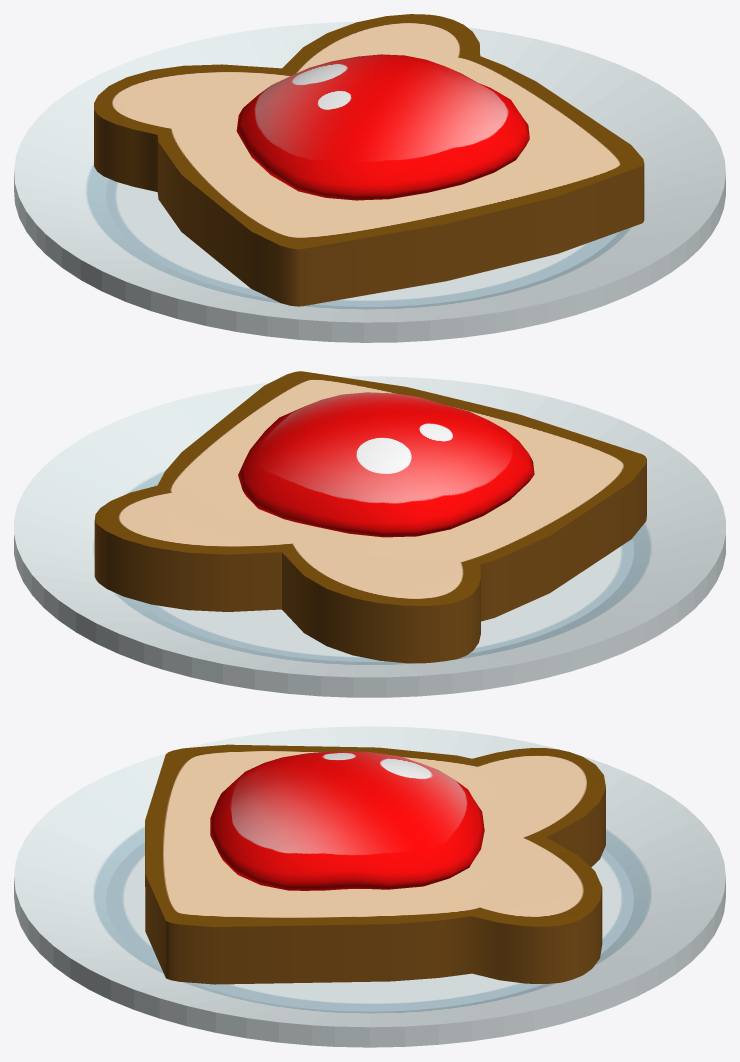
The model's file is toast.fbx.
3 renders of one model, top to bottom at view 1: azimuth 30°, elevation 25°; view 2: azimuth 150°, elevation 25°; view 3: azimuth 270°, elevation 25°, orthographic.
Visible parts, largest first — view 1: plate, bread_top, jam, bread_side; view 2: plate, bread_top, jam, bread_side; view 3: plate, bread_top, jam, bread_side.
Part boxes in pixels (x1,y1,x2,y2): plate: [14, 22, 725, 342]; bread_top: [94, 14, 643, 249]; jam: [236, 54, 529, 200]; bread_side: [94, 109, 644, 306]; plate: [14, 376, 725, 697]; bread_top: [95, 371, 646, 605]; jam: [238, 392, 534, 537]; bread_side: [94, 459, 646, 663]; plate: [14, 726, 725, 1047]; bread_top: [145, 744, 605, 926]; jam: [210, 751, 484, 890]; bread_side: [145, 788, 605, 984].
Bounding box in the file's own units: 227 × 44.41 × 227.
Materials: 4 (3 with a texture image).
